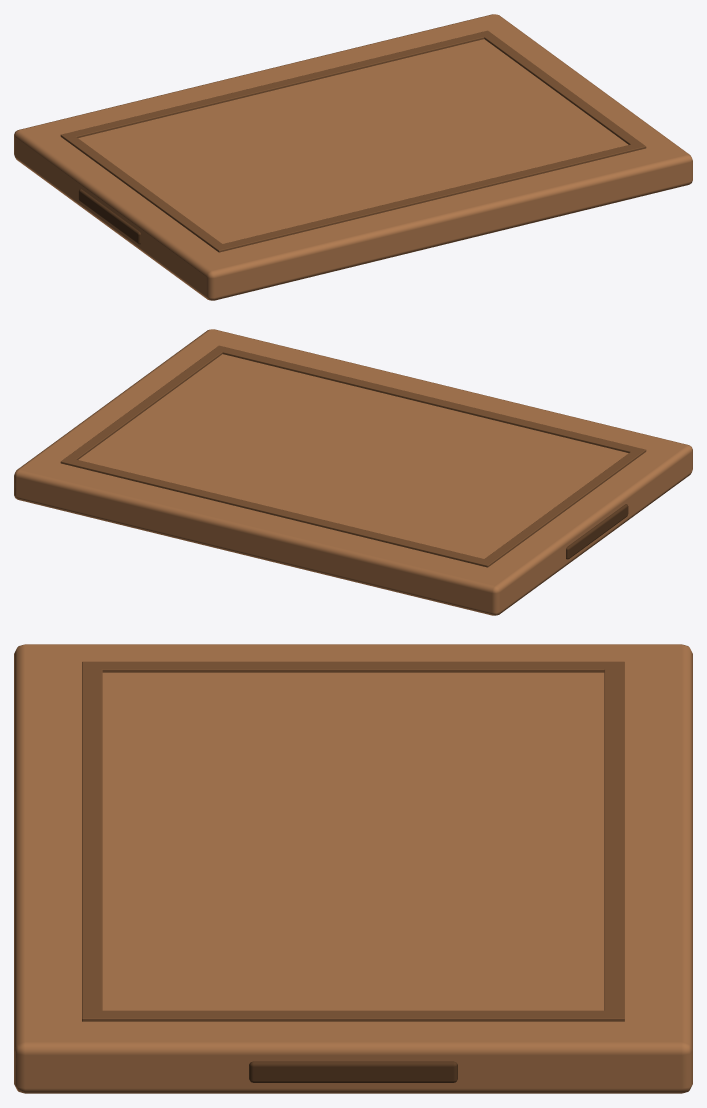
File: wp-planche-a-decouper.glb
3 renders of one model, top to bottom at view 1: azimuth 30°, elevation 25°; view 2: azimuth 150°, elevation 25°; view 3: azimuth 270°, elevation 25°, orthographic. The views are drawn at different scales.
Visible parts, largest first — view 1: wp-planche-a-decouper; view 2: wp-planche-a-decouper; view 3: wp-planche-a-decouper.
Boxes of the visible parts, <box> form: wp-planche-a-decouper: <box>14,14,692,300</box>; wp-planche-a-decouper: <box>14,329,692,615</box>; wp-planche-a-decouper: <box>14,644,692,1093</box>.
Bounding box in the file's own units: 0.4 × 0.025 × 0.28.
